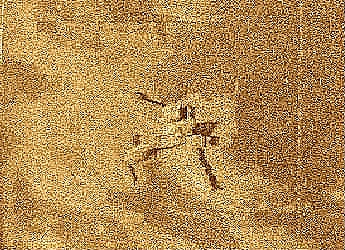aircraft: (112, 89, 216, 194)
